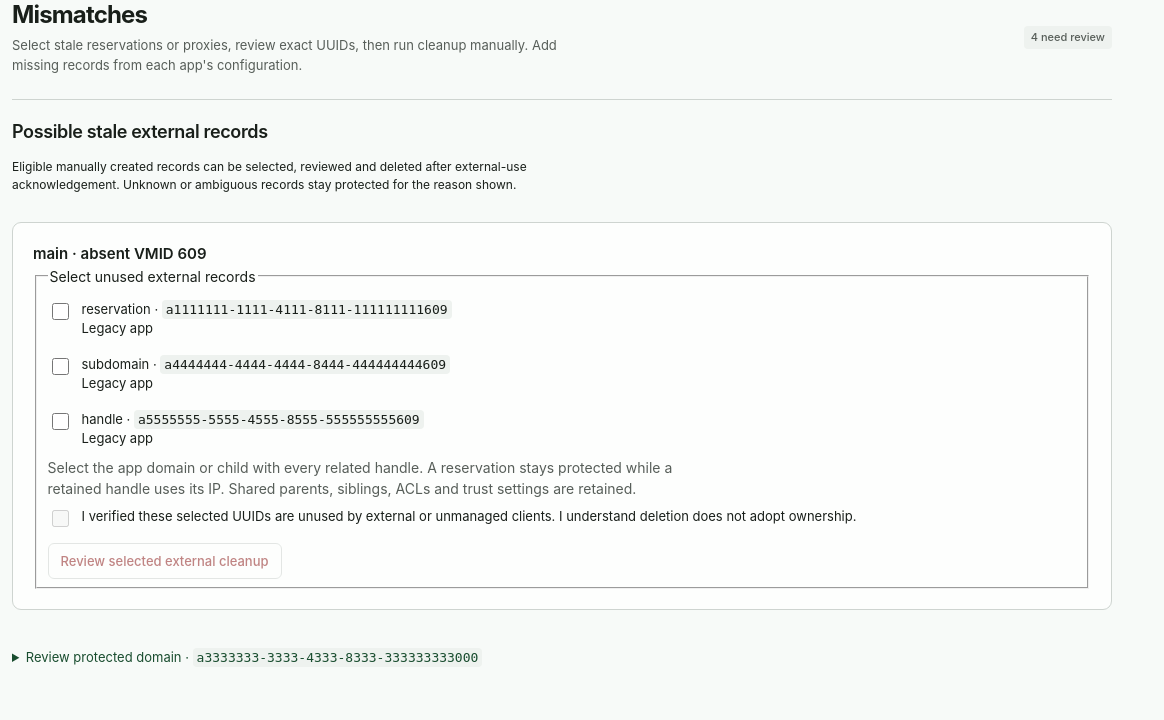
Test: blocks mismatched external effects and incomplete inventory
Click the checkbox labelled "reservation · a1111111-1111-4111-8111-111111111609Legacy app": (60, 311) [52,303,68,320]
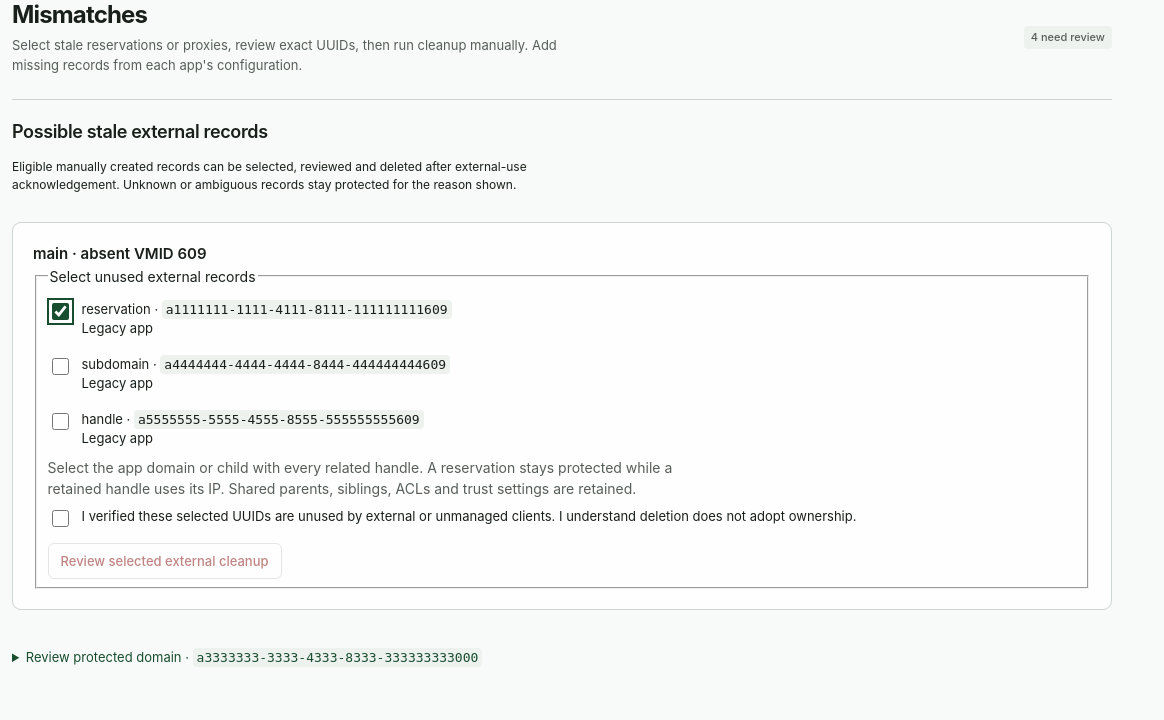
Click the checkbox labelled "subdomain · a4444444-4444-4444-8444-444444444609Legacy app": (60, 366) [52,358,68,375]
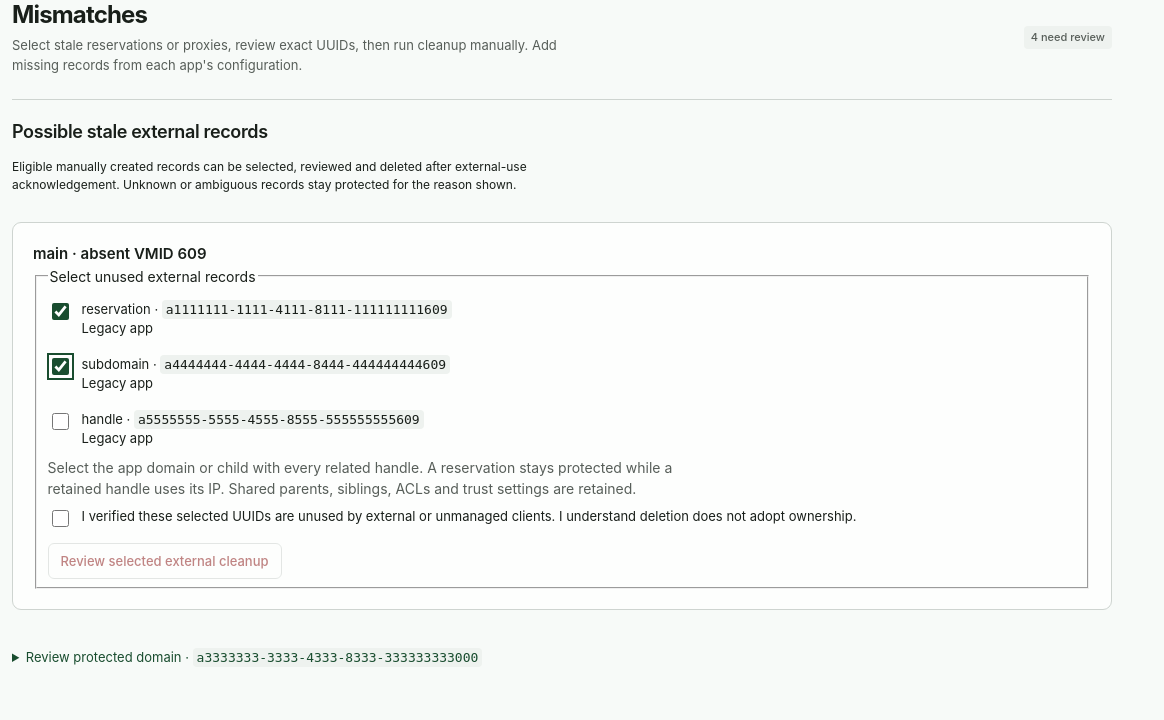
Click the checkbox labelled "handle · a5555555-5555-4555-8555-555555555609Legacy app": (60, 421) [52,413,68,430]
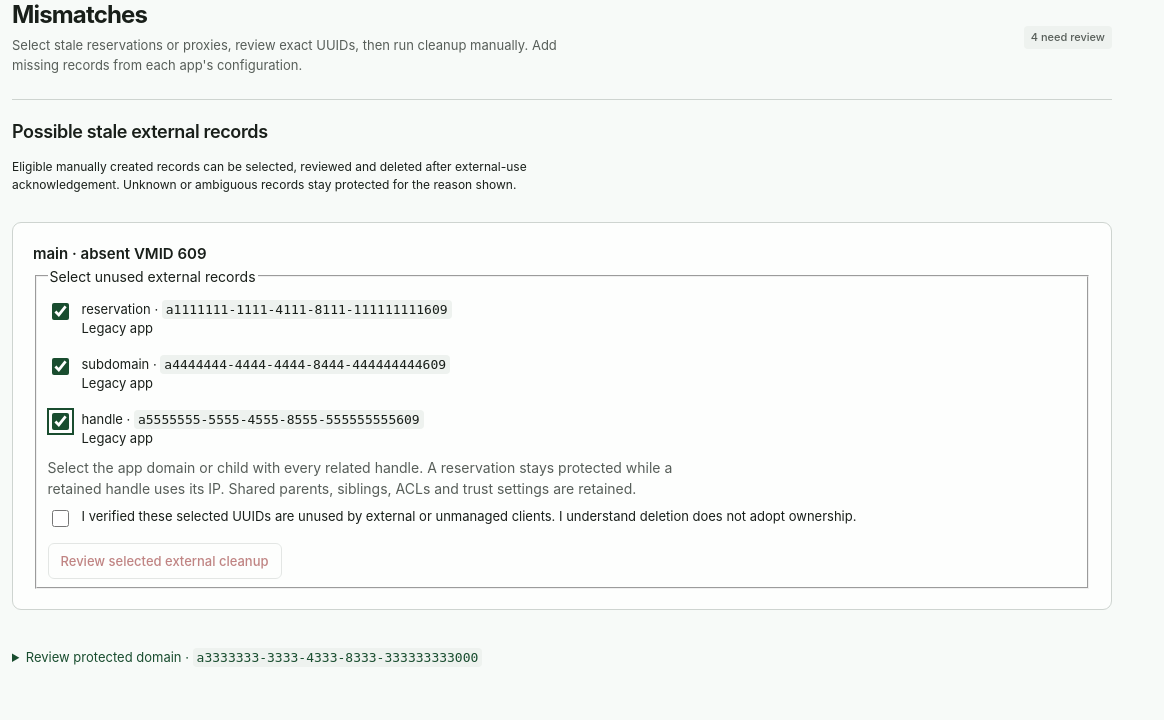
Click the checkbox labelled "I verified these selected UUIDs are unused": (60, 518) [52,510,68,527]
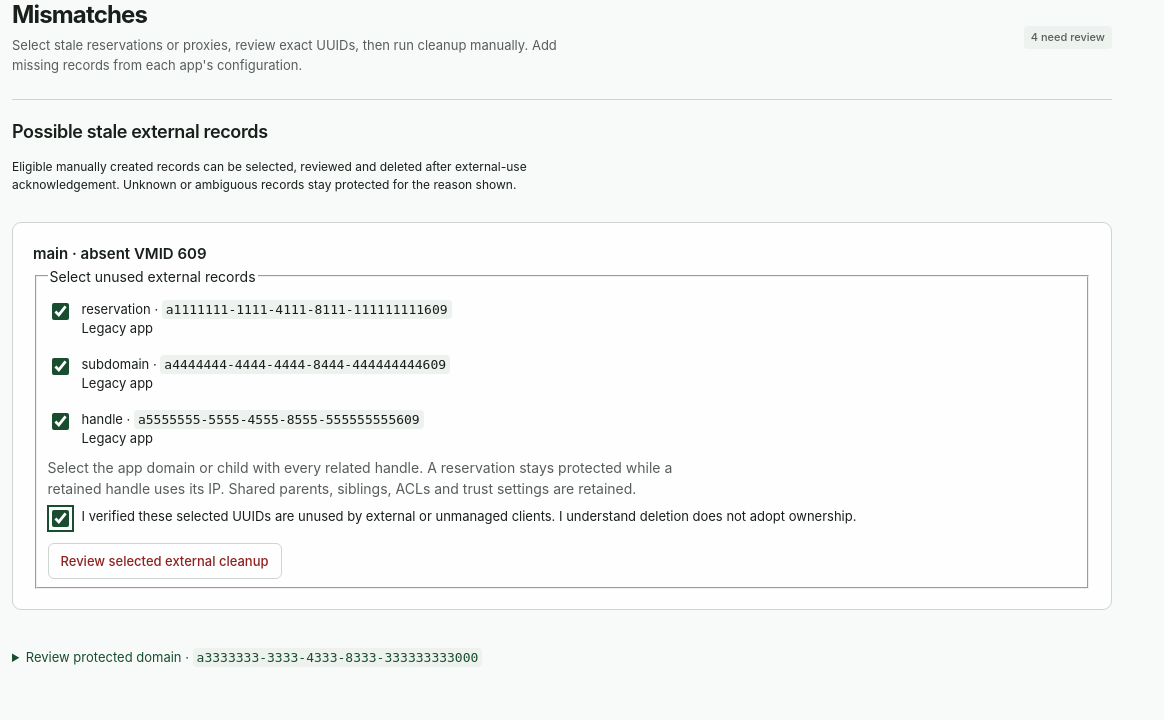
Click the button "Review selected external cleanup": (164, 561) [48,543,282,579]
(page scrolled)
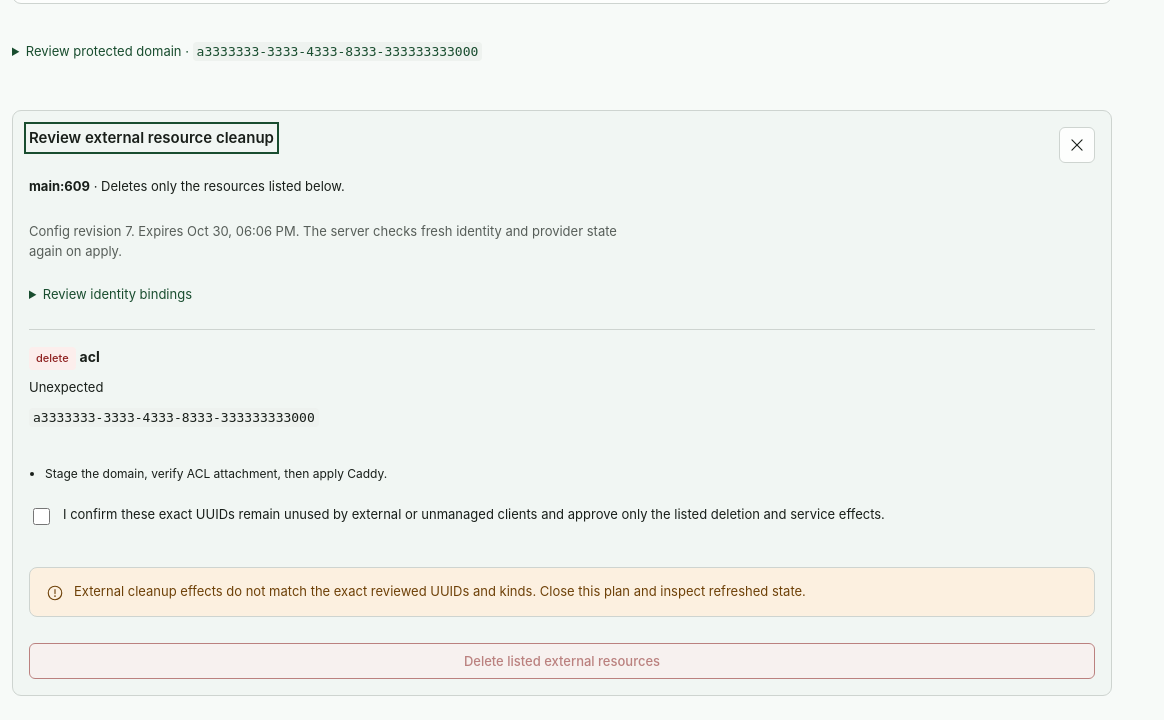
Check: the button "Delete listed external resources" is disabled, box [29,643,1095,679]
Check: the text "External cleanup effects do not match" is shown, box [74,583,806,599]
